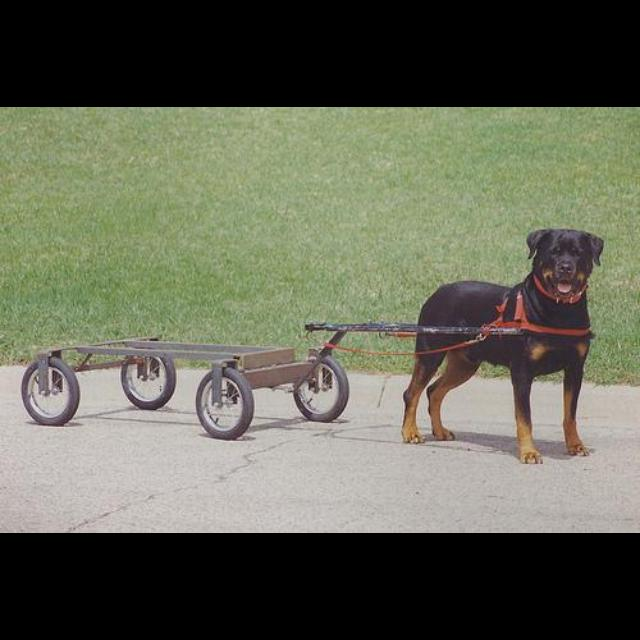rottweiler: (401, 229, 605, 465)
